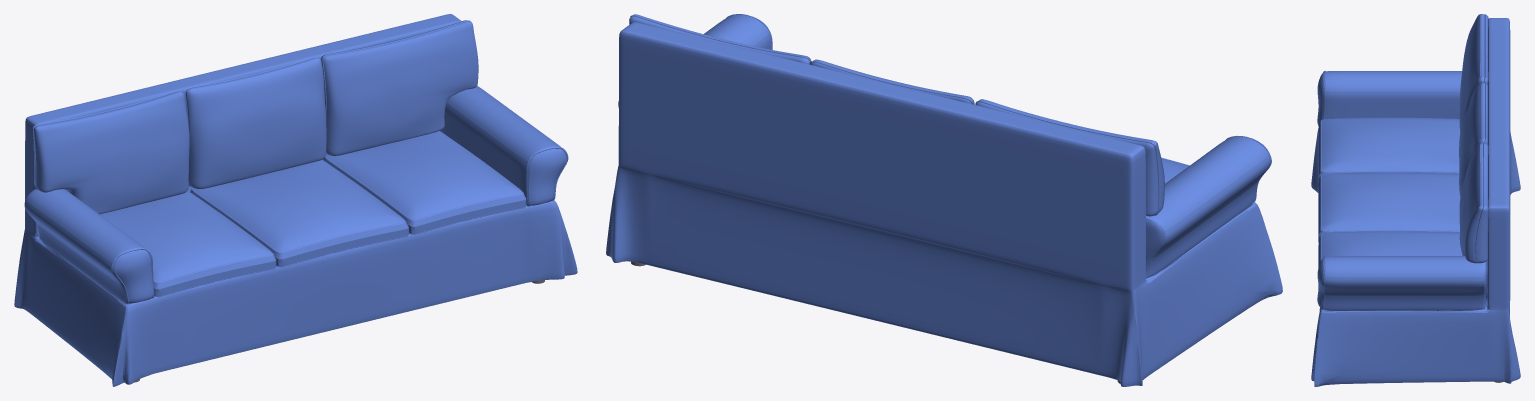
Rendered from blue_sofa.fbx.
3 views of the same model, side by side, from view 1: azimuth 30°, elevation 25°; view 2: azimuth 150°, elevation 25°; view 3: azimuth 270°, elevation 25° (orthographic). The views are drawn at different scales.
Visible parts, largest first — view 1: IKEA_Ektorp_Sofa_Dark_Blue_3D:Cylinder02, IKEA_Ektorp_Sofa_Dark_Blue_3D:Rectangle2, IKEA_Ektorp_Sofa_Dark_Blue_3D:Rectangle1, IKEA_Ektorp_Sofa_Dark_Blue_3D:Rectangle0, IKEA_Ektorp_Sofa_Dark_Blue_3D:Box07, IKEA_Ektorp_Sofa_Dark_Blue_3D:Box06, IKEA_Ektorp_Sofa_Dark_Blue_3D:Box08; view 2: IKEA_Ektorp_Sofa_Dark_Blue_3D:Cylinder02, IKEA_Ektorp_Sofa_Dark_Blue_3D:Rectangle1, IKEA_Ektorp_Sofa_Dark_Blue_3D:Rectangle2, IKEA_Ektorp_Sofa_Dark_Blue_3D:Rectangle0; view 3: IKEA_Ektorp_Sofa_Dark_Blue_3D:Cylinder02, IKEA_Ektorp_Sofa_Dark_Blue_3D:Box07, IKEA_Ektorp_Sofa_Dark_Blue_3D:Box08, IKEA_Ektorp_Sofa_Dark_Blue_3D:Box06, IKEA_Ektorp_Sofa_Dark_Blue_3D:Rectangle2, IKEA_Ektorp_Sofa_Dark_Blue_3D:Rectangle1, IKEA_Ektorp_Sofa_Dark_Blue_3D:Rectangle0.
Boxes of the visible parts, x1=… form: IKEA_Ektorp_Sofa_Dark_Blue_3D:Cylinder02: x1=14, y1=14, x2=577, y2=386; IKEA_Ektorp_Sofa_Dark_Blue_3D:Rectangle2: x1=321, y1=20, x2=478, y2=155; IKEA_Ektorp_Sofa_Dark_Blue_3D:Rectangle1: x1=33, y1=90, x2=189, y2=214; IKEA_Ektorp_Sofa_Dark_Blue_3D:Rectangle0: x1=185, y1=57, x2=326, y2=188; IKEA_Ektorp_Sofa_Dark_Blue_3D:Box07: x1=190, y1=160, x2=408, y2=267; IKEA_Ektorp_Sofa_Dark_Blue_3D:Box06: x1=323, y1=131, x2=526, y2=234; IKEA_Ektorp_Sofa_Dark_Blue_3D:Box08: x1=100, y1=191, x2=276, y2=297; IKEA_Ektorp_Sofa_Dark_Blue_3D:Cylinder02: x1=606, y1=14, x2=1282, y2=386; IKEA_Ektorp_Sofa_Dark_Blue_3D:Rectangle1: x1=975, y1=99, x2=1164, y2=216; IKEA_Ektorp_Sofa_Dark_Blue_3D:Rectangle2: x1=629, y1=14, x2=811, y2=64; IKEA_Ektorp_Sofa_Dark_Blue_3D:Rectangle0: x1=809, y1=59, x2=974, y2=104; IKEA_Ektorp_Sofa_Dark_Blue_3D:Cylinder02: x1=1311, y1=18, x2=1520, y2=386; IKEA_Ektorp_Sofa_Dark_Blue_3D:Box07: x1=1318, y1=172, x2=1460, y2=241; IKEA_Ektorp_Sofa_Dark_Blue_3D:Box08: x1=1318, y1=117, x2=1460, y2=182; IKEA_Ektorp_Sofa_Dark_Blue_3D:Box06: x1=1318, y1=231, x2=1462, y2=287; IKEA_Ektorp_Sofa_Dark_Blue_3D:Rectangle2: x1=1459, y1=142, x2=1488, y2=275; IKEA_Ektorp_Sofa_Dark_Blue_3D:Rectangle1: x1=1459, y1=14, x2=1488, y2=131; IKEA_Ektorp_Sofa_Dark_Blue_3D:Rectangle0: x1=1459, y1=82, x2=1487, y2=196.
Size of the model in its own units: 286 by 116 by 122.
